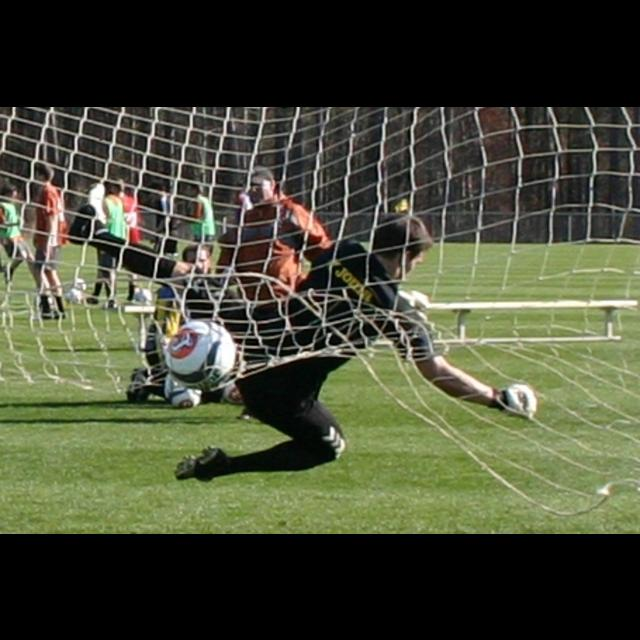Football: (160, 318, 236, 387)
